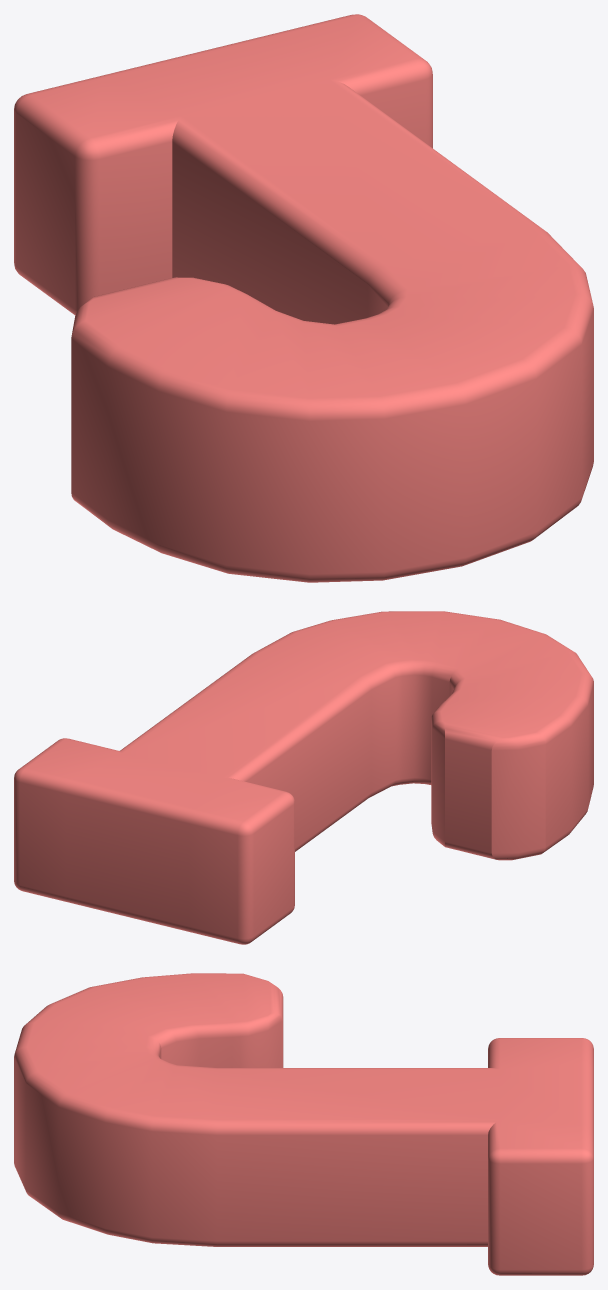
3 renders of one model, top to bottom at view 1: azimuth 30°, elevation 25°; view 2: azimuth 150°, elevation 25°; view 3: azimuth 270°, elevation 25°, orthographic. The views are drawn at different scales.
Parts seen in each view (by area): view 1: Plane.002; view 2: Plane.002; view 3: Plane.002.
Boxes of the visible parts, bbox=[...] form: Plane.002: bbox=[14, 14, 593, 582]; Plane.002: bbox=[14, 611, 593, 944]; Plane.002: bbox=[14, 973, 593, 1275].
Bounding box in the file's own units: 599 × 191 × 796.
